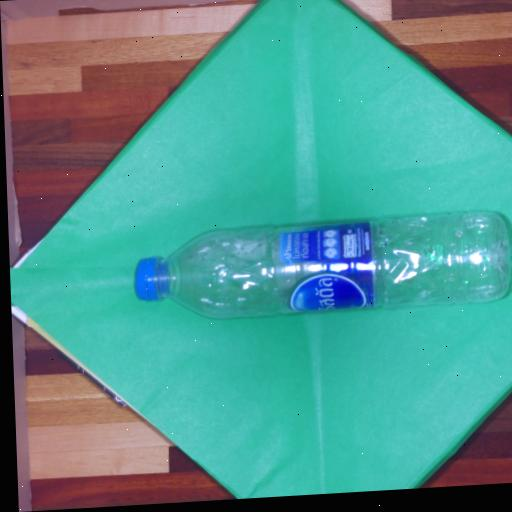bottle: (136, 212, 510, 317)
